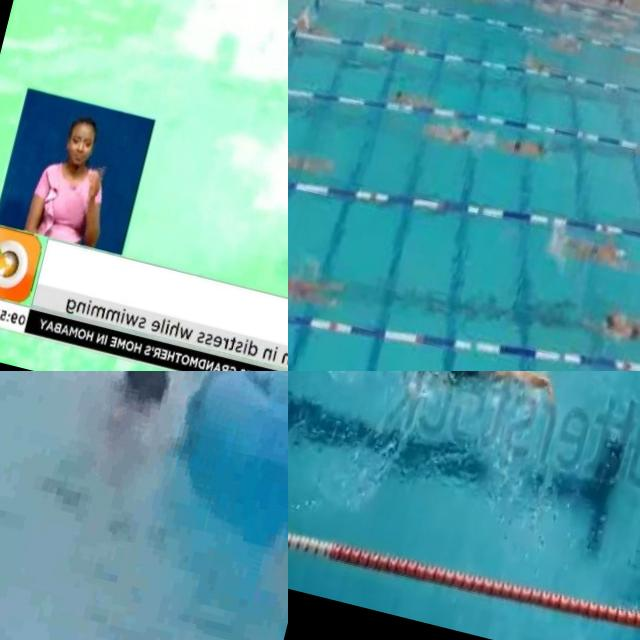drowning: (12, 371, 222, 546)
swimming: (342, 371, 600, 452), (563, 220, 637, 277), (288, 252, 350, 316), (592, 290, 640, 369), (288, 134, 337, 184), (500, 124, 548, 164), (511, 46, 558, 86), (377, 24, 425, 62), (288, 14, 336, 52), (386, 76, 432, 114), (426, 115, 472, 153)
